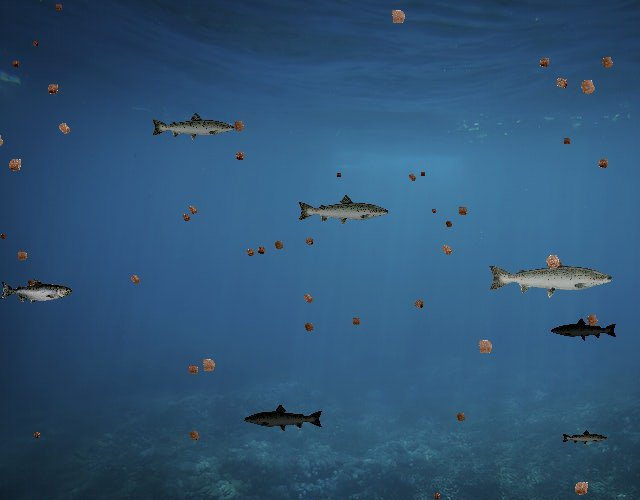Fish: (486, 253, 615, 299), (297, 194, 391, 228), (150, 111, 236, 142), (243, 404, 324, 433), (0, 278, 71, 304), (550, 317, 618, 342), (561, 429, 608, 446)
Pellet: (567, 475, 595, 500), (52, 116, 77, 141), (451, 408, 470, 427), (30, 428, 44, 442), (429, 489, 444, 500), (29, 38, 41, 50)
